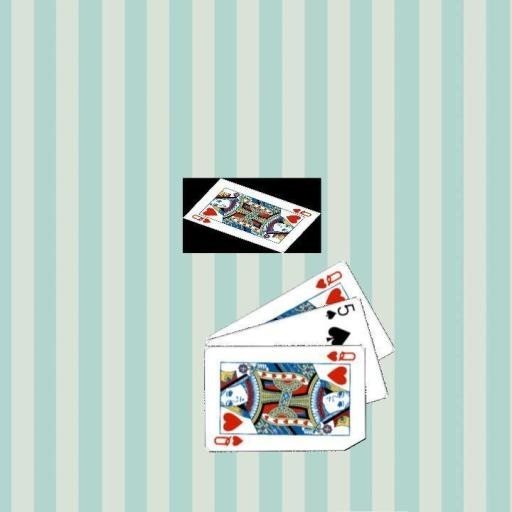card-corner: (312, 267, 344, 290), (323, 300, 357, 321), (211, 429, 248, 447), (324, 347, 358, 363)
